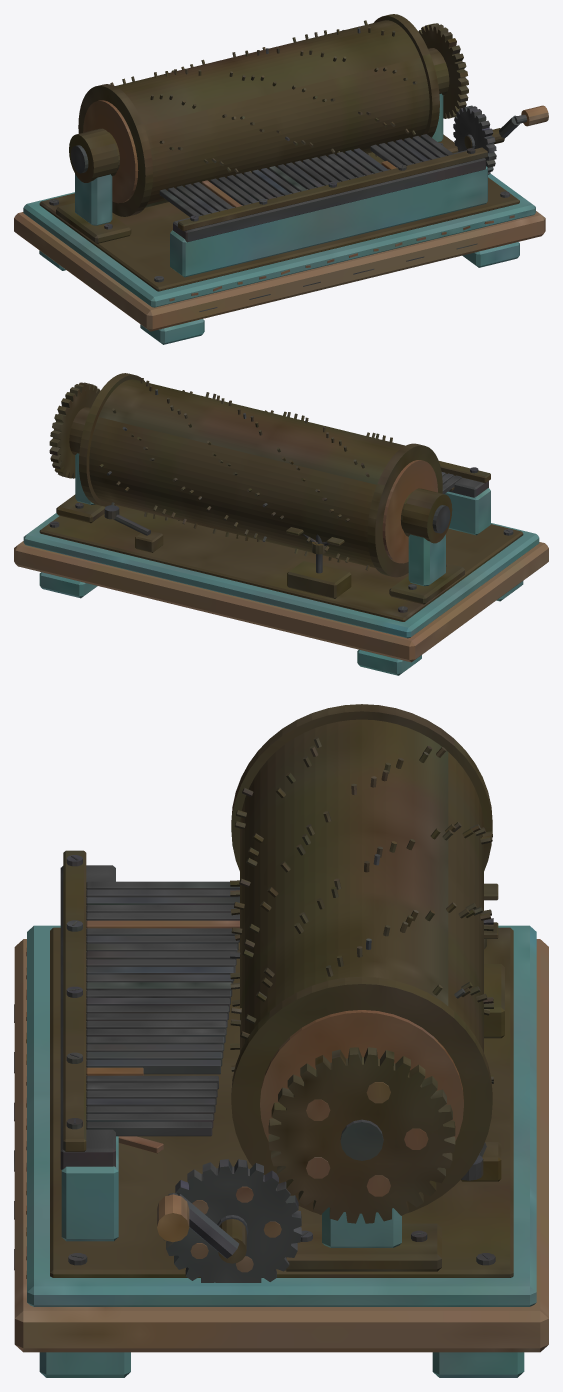
The model's file is A02_giant_music_box_mechanism.glb.
3 views of the same model, one above another, from view 1: azimuth 30°, elevation 25°; view 2: azimuth 150°, elevation 25°; view 3: azimuth 270°, elevation 25° (orthographic). The views are drawn at different scales.
Visible parts, largest first — view 1: Cast foot; view 2: Cast foot; view 3: Cast foot.
Boxes of the visible parts, x1,y1,x2,y2 form: Cast foot: (14,14,548,344); Cast foot: (14,373,548,675); Cast foot: (14,704,548,1377).
Bounding box in the file's own units: 5 × 2.06 × 2.72.
6 materials, 6 textured.
